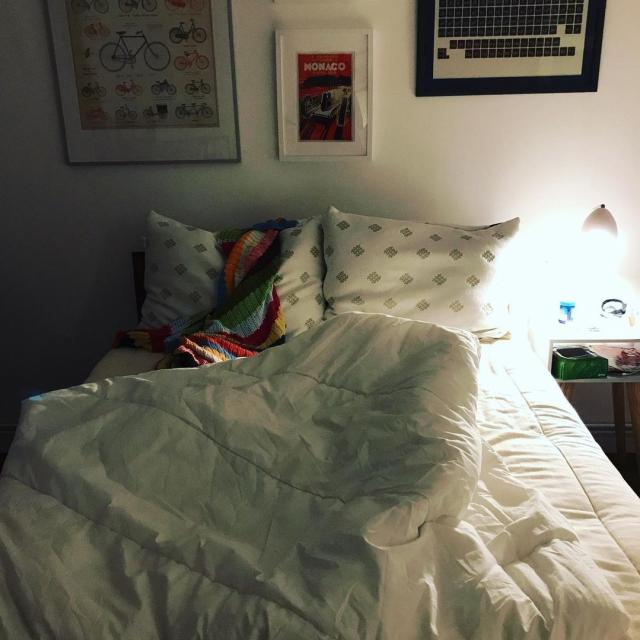bed: (18, 223, 581, 630)
